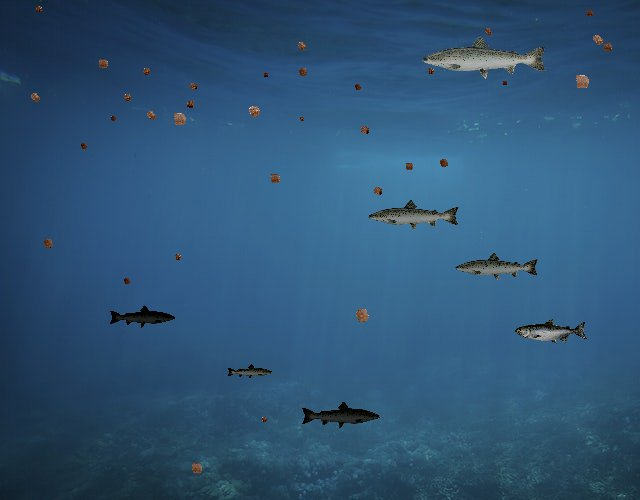Fish: (420, 34, 549, 80), (367, 198, 461, 232), (454, 251, 540, 282), (300, 400, 381, 429), (515, 319, 588, 345), (109, 304, 177, 329), (227, 363, 274, 380)
Pellet: (242, 99, 267, 124), (185, 457, 208, 480), (368, 181, 387, 200), (170, 250, 185, 265), (120, 274, 134, 288), (32, 2, 46, 16), (258, 413, 270, 425)
